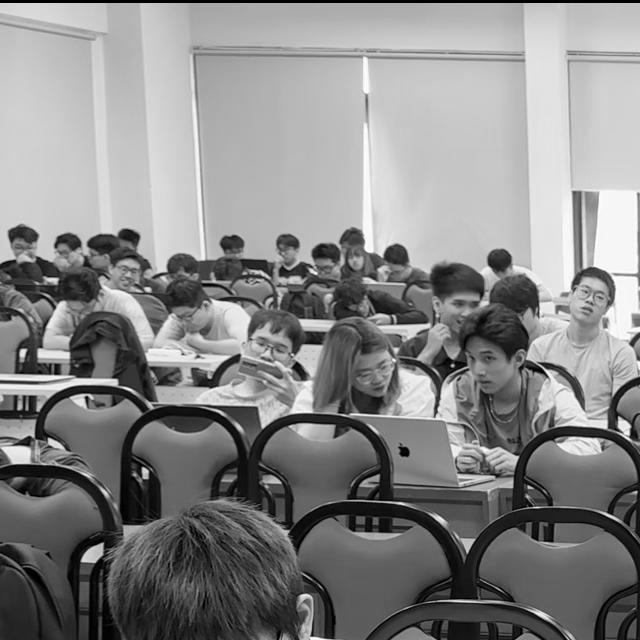Looking away: (351, 348, 399, 401), (570, 276, 611, 328), (439, 290, 482, 336), (172, 302, 211, 333)
Looking forward: (460, 337, 515, 395)
Phone use: (199, 312, 309, 431)
